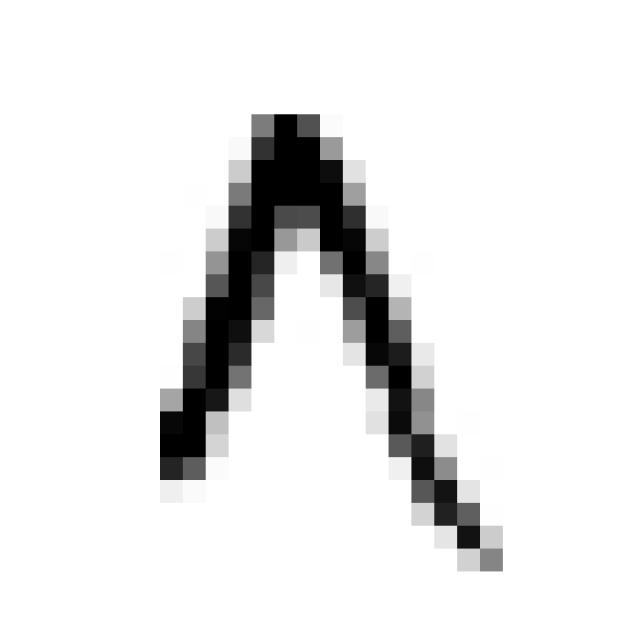8 -eight-: (131, 94, 524, 598)
